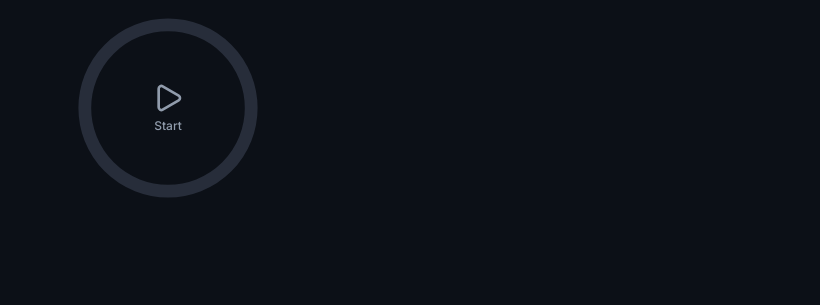
Test case: B404 — side switch between RIGHT and LEFT › a bilateral exercise still rests the full set rest after every set
Click the button "Start" at (168,108), box x1=152 y1=82 x2=184 y2=134
Wait 25400 ms
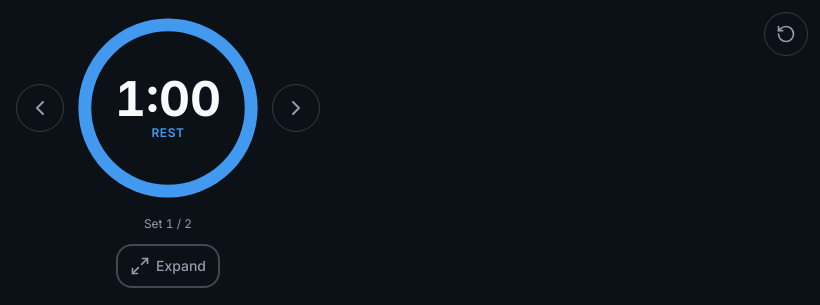
expect the text "Rest" is shown: met, box x1=151 y1=125 x2=184 y2=141
expect the text "1:00" is shown: met, box x1=115 y1=75 x2=221 y2=123
